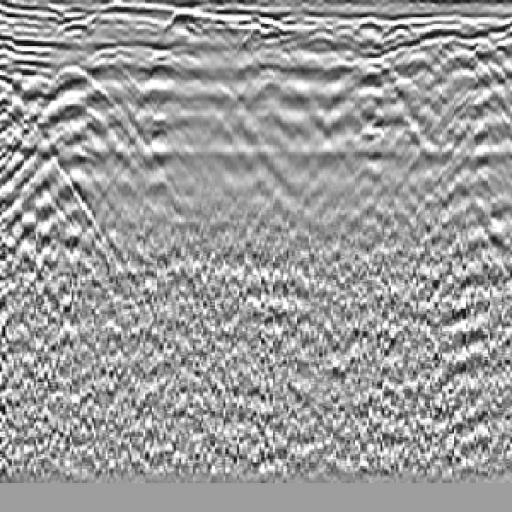non-metallic: (1, 40, 185, 262)
